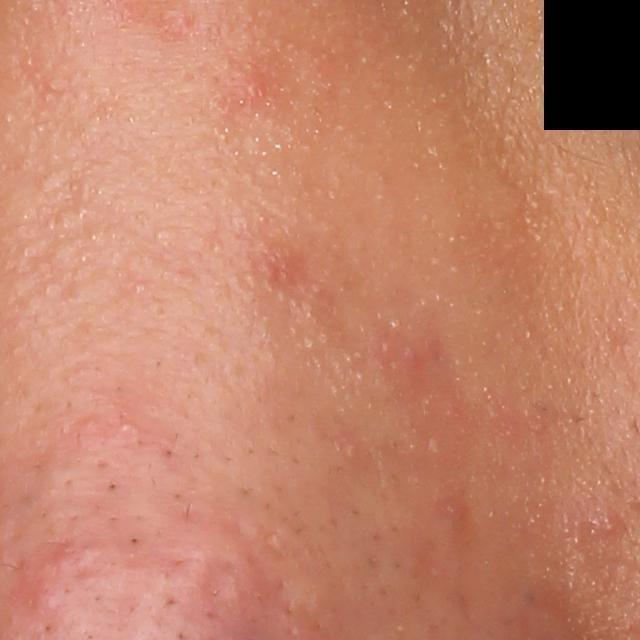papule: (596, 505, 625, 536)
